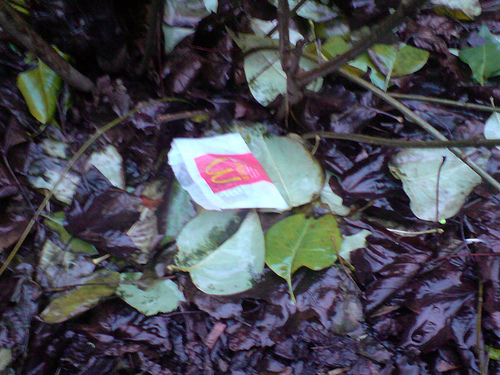litter: (169, 133, 288, 211)
